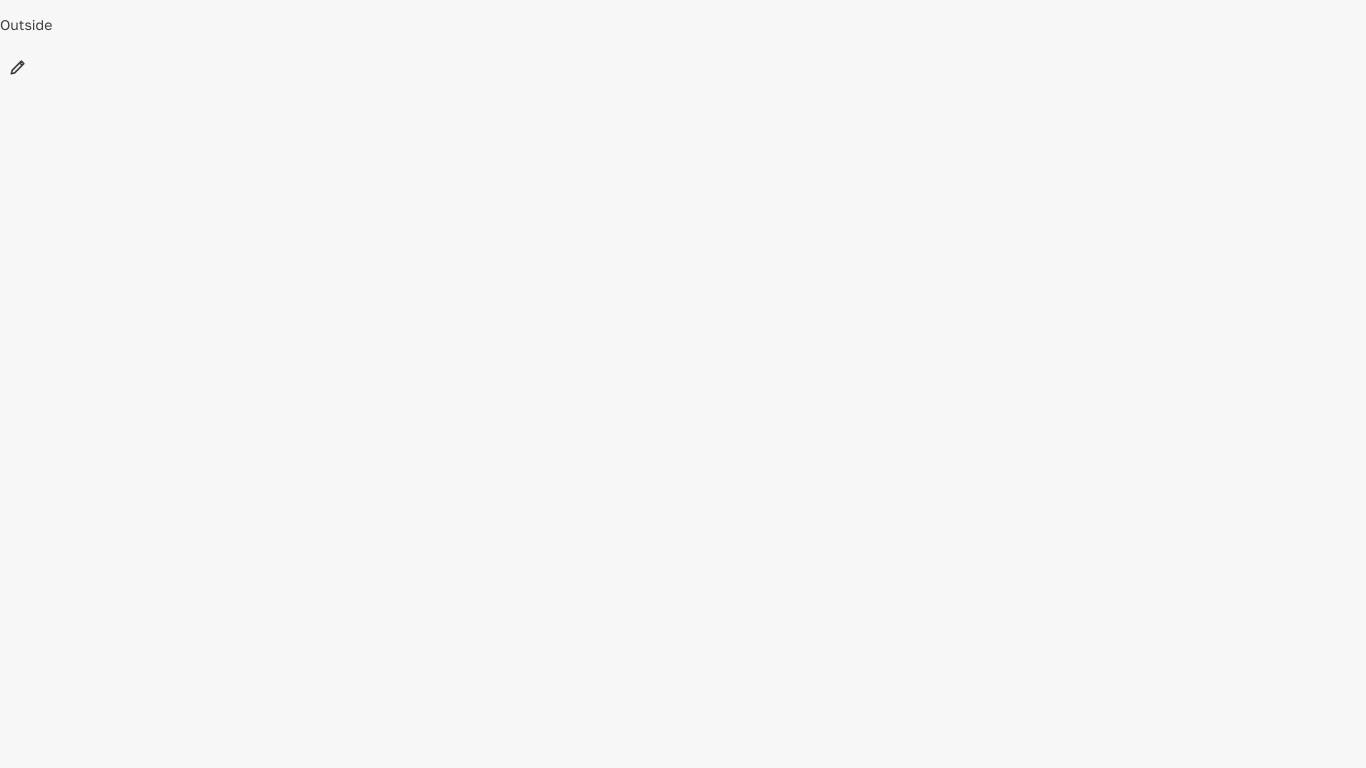
Test: PopoverMenu › opens its window of items named like it
Click the button named "Actions" at (18, 67), box left=0, top=49, right=36, bottom=85
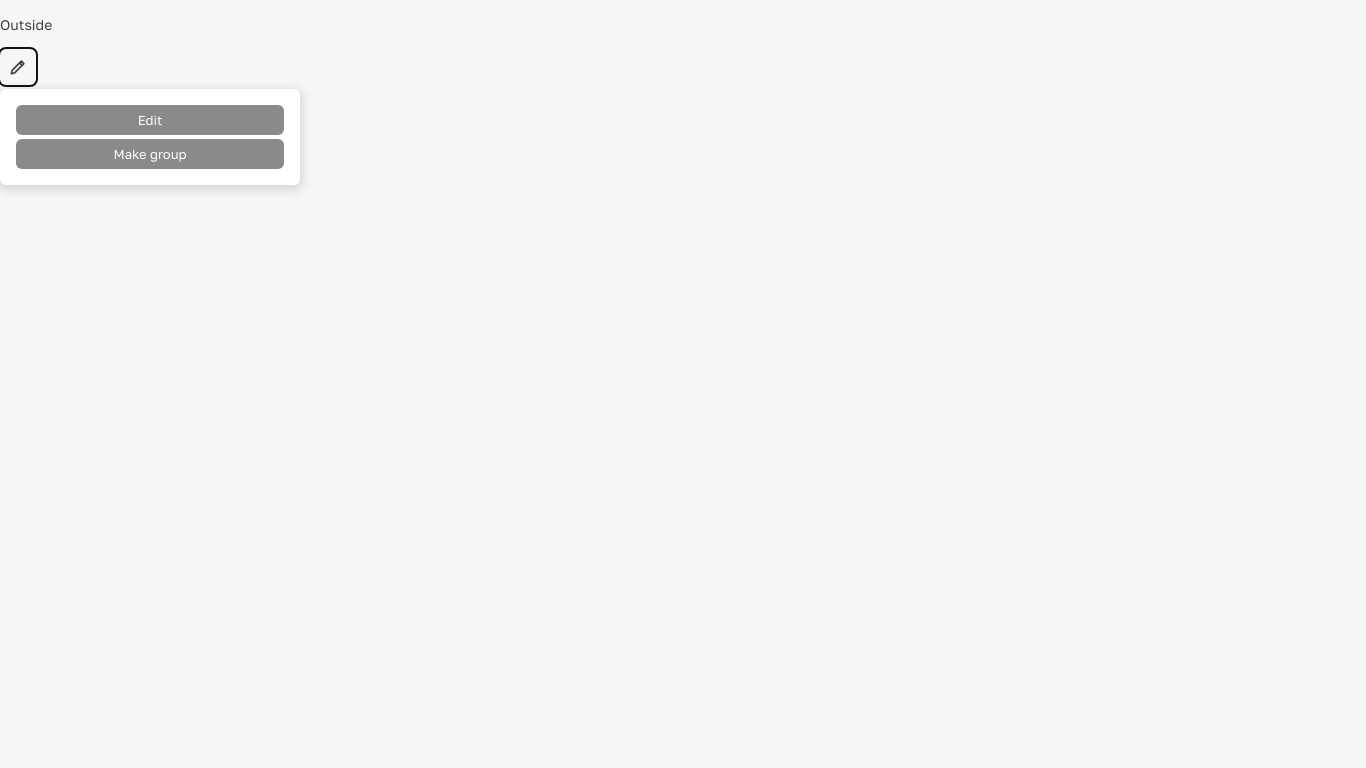
Now the dialog named "Actions" is shown, box left=0, top=89, right=300, bottom=185
